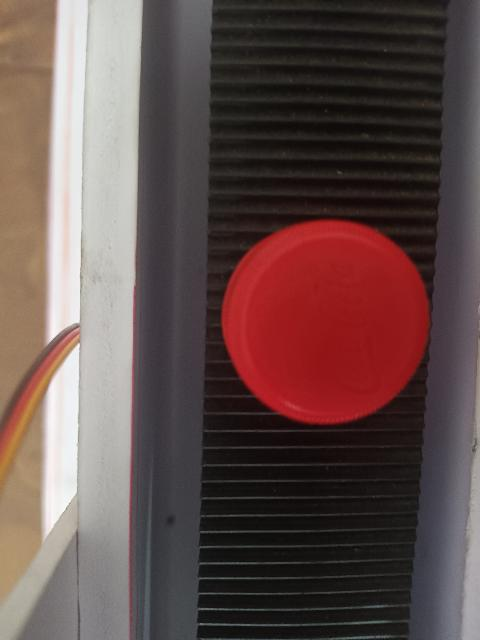bottlecap: (222, 214, 432, 428)
